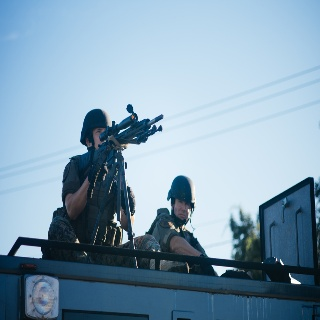rifle: (77, 103, 164, 170)
